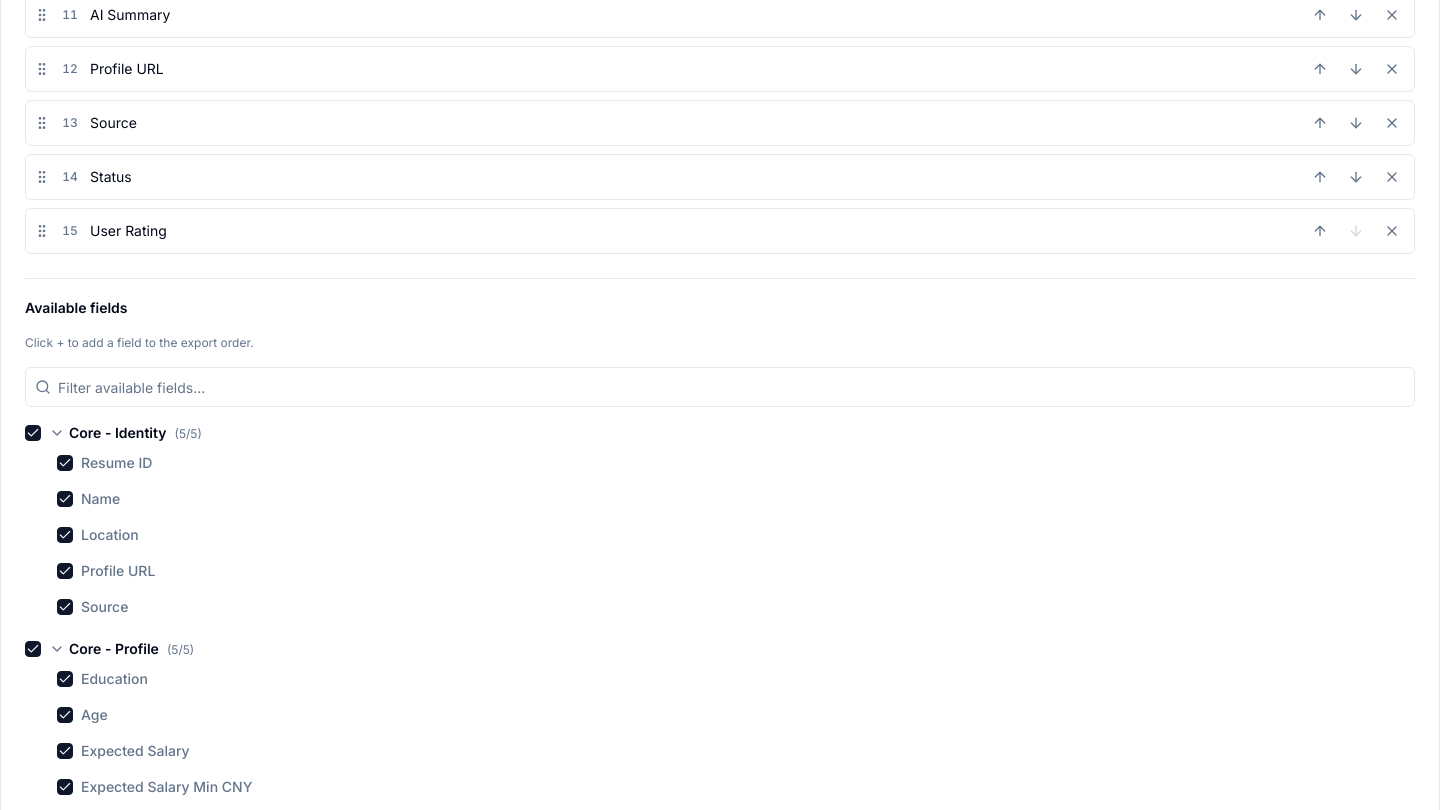
SystemSettingsExportFieldsPage state › collapses and expands a group without losing selection state
(page scrolled)
expect the checkbox named "Resume ID" is checked: met, box left=57, top=455, right=73, bottom=471
# Collapse the Core - Identity group
Step 1. Click the button with aria-label "Collapse Core - Identity" → (118,432), box left=49, top=423, right=1415, bottom=443
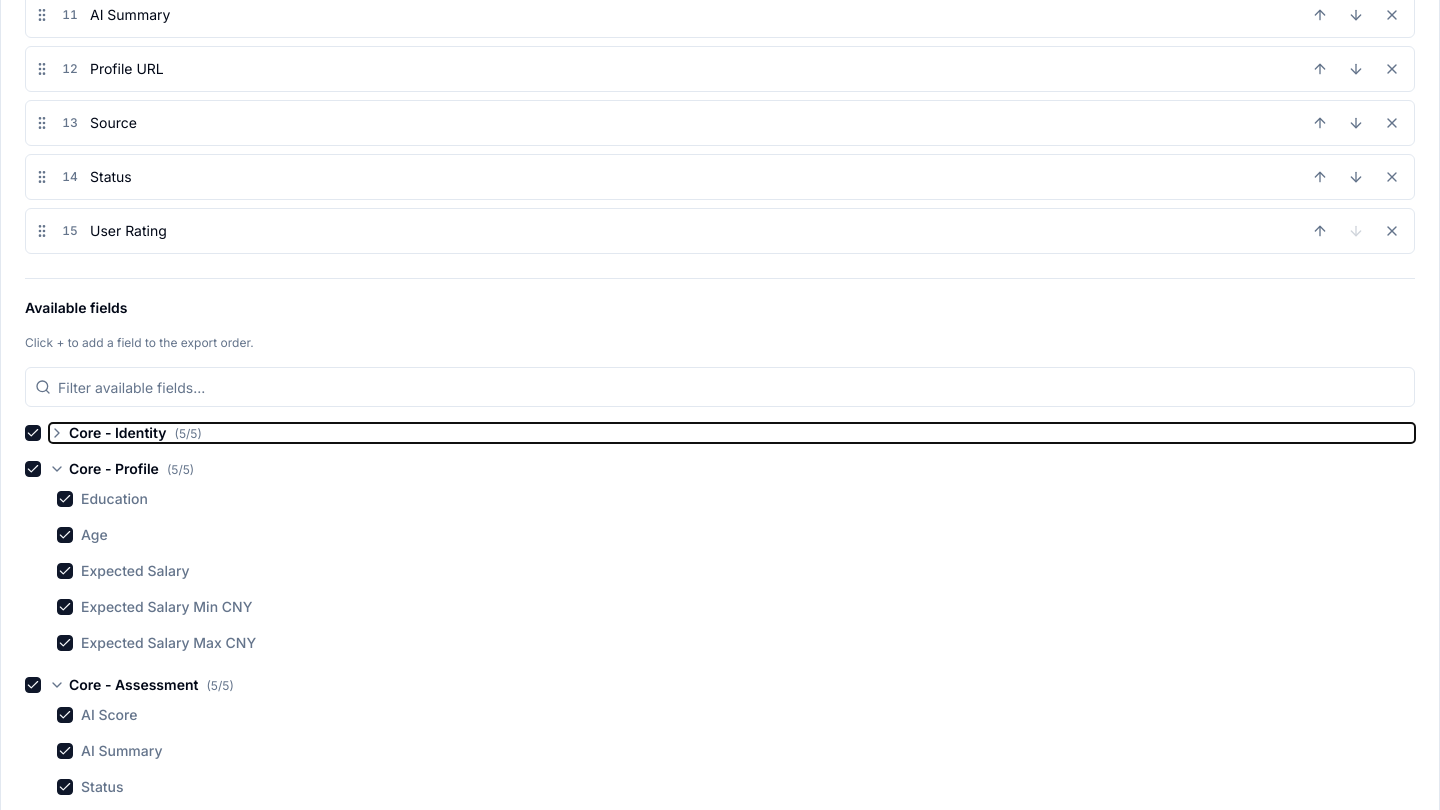
expect the checkbox labelled "Resume ID" is not shown: met
# Expand it back
Step 2. Click the button with aria-label "Expand Core - Identity" → (118,432), box left=49, top=423, right=1415, bottom=443
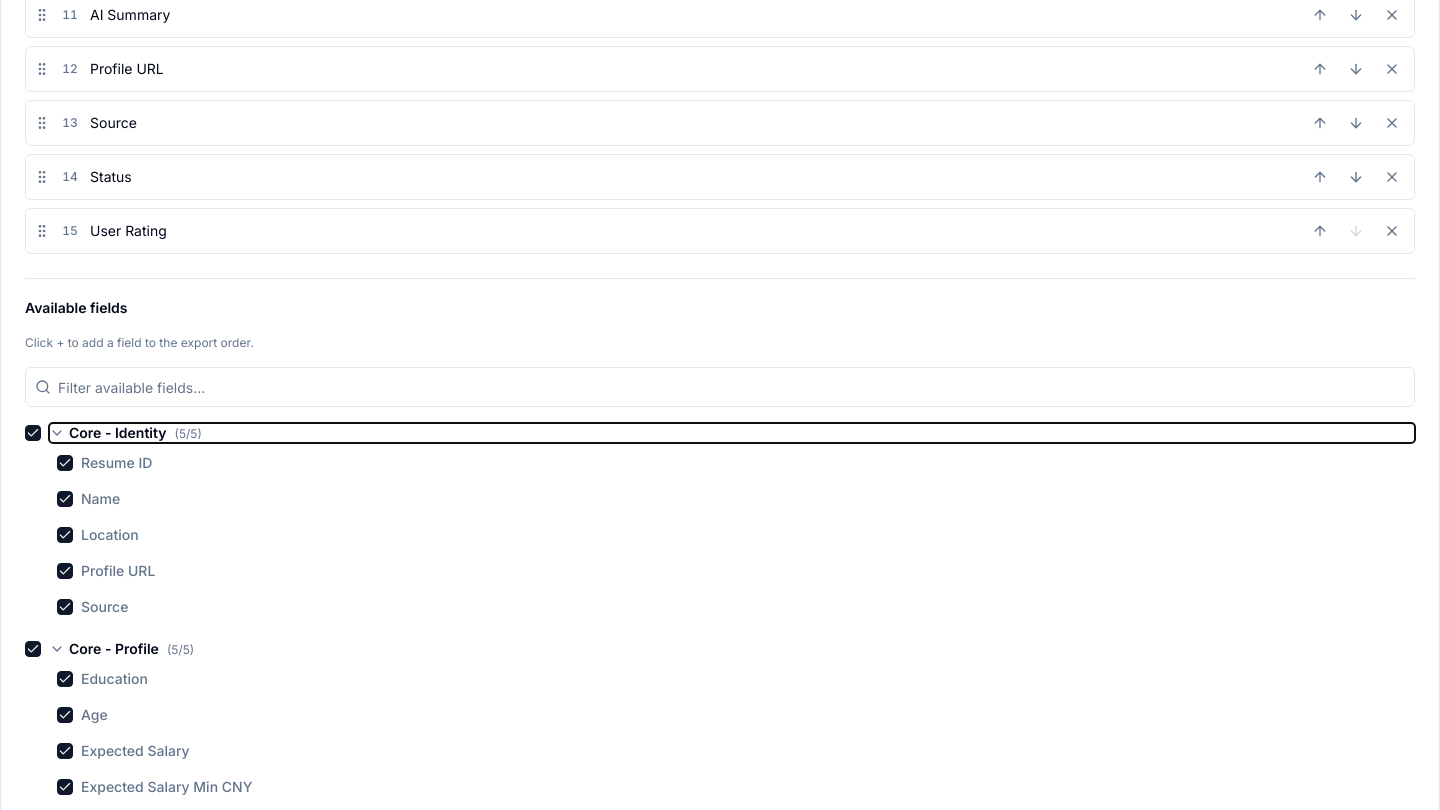
expect the checkbox named "Resume ID" is checked: met, box left=57, top=455, right=73, bottom=471
